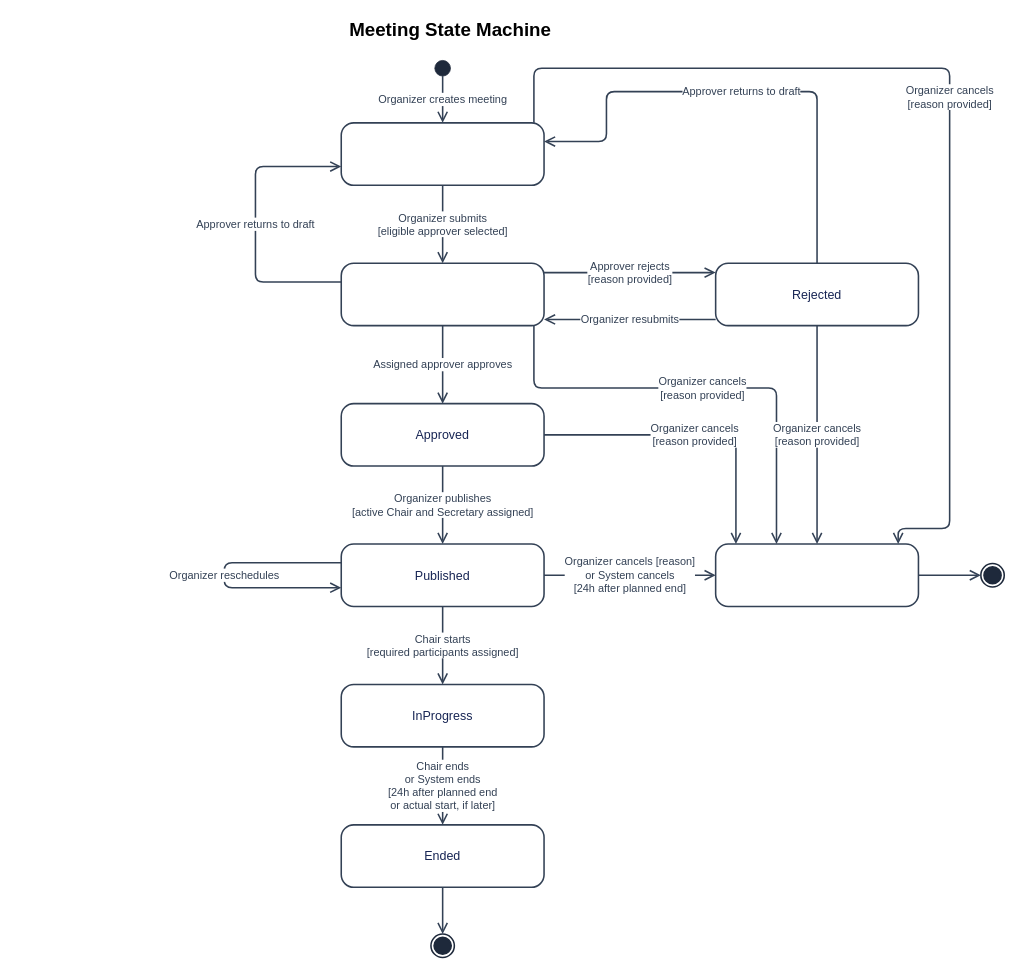
Image size: 1018x971. Some labels were removed from this diagram. The centre of each missing label's shape, as x and y in pixels:
"Cancelled" belongs at point (816, 575).
"Draft" belongs at point (442, 154).
"WaitingApproval" belongs at point (442, 294).
